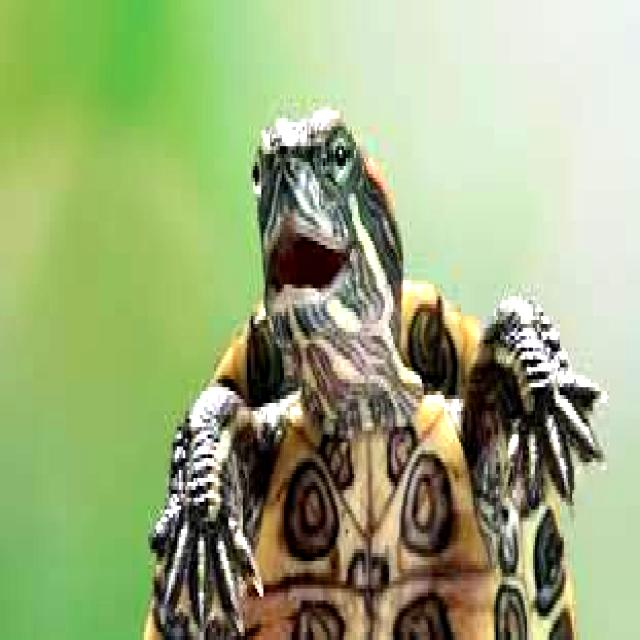Sea turtle: (119, 101, 640, 640)
